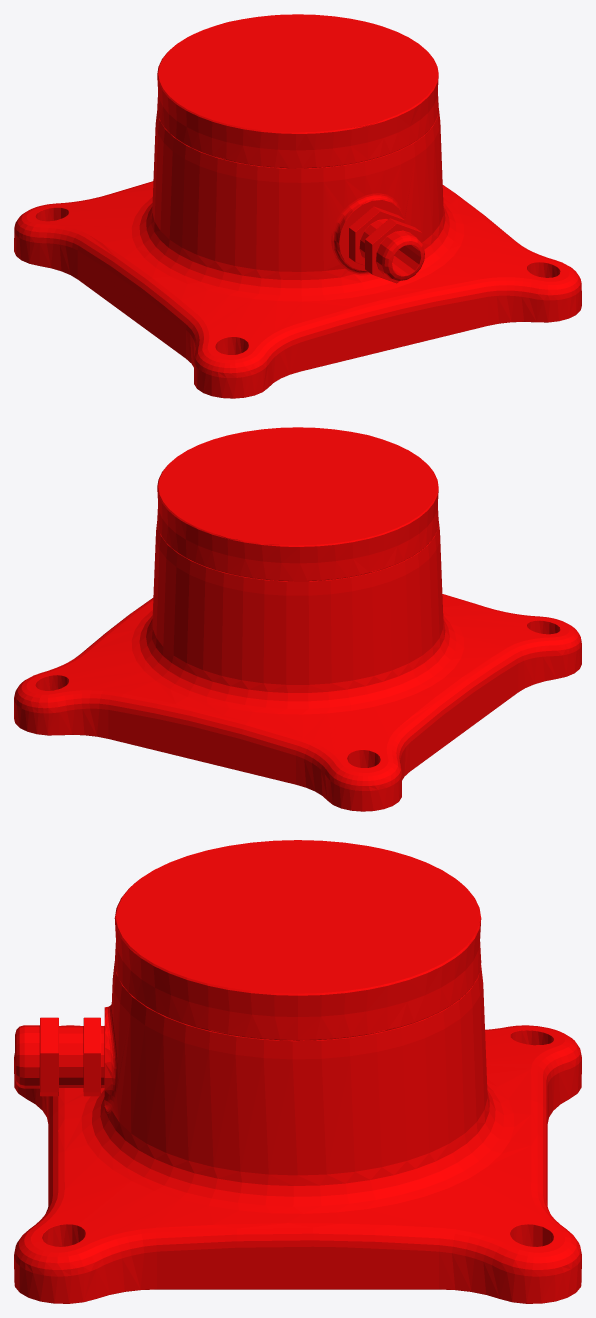
3 views of the same model, one above another, from view 1: azimuth 30°, elevation 25°; view 2: azimuth 150°, elevation 25°; view 3: azimuth 270°, elevation 25° (orthographic). The views are drawn at different scales.
Parts seen in each view (by area): view 1: A0509_0_0; view 2: A0509_0_0; view 3: A0509_0_0.
Boxes of the visible parts, <box> form: A0509_0_0: <box>14,14,581,398</box>; A0509_0_0: <box>14,427,581,811</box>; A0509_0_0: <box>14,840,581,1303</box>.
Bounding box in the file's own units: 182 × 182 × 94.5.
